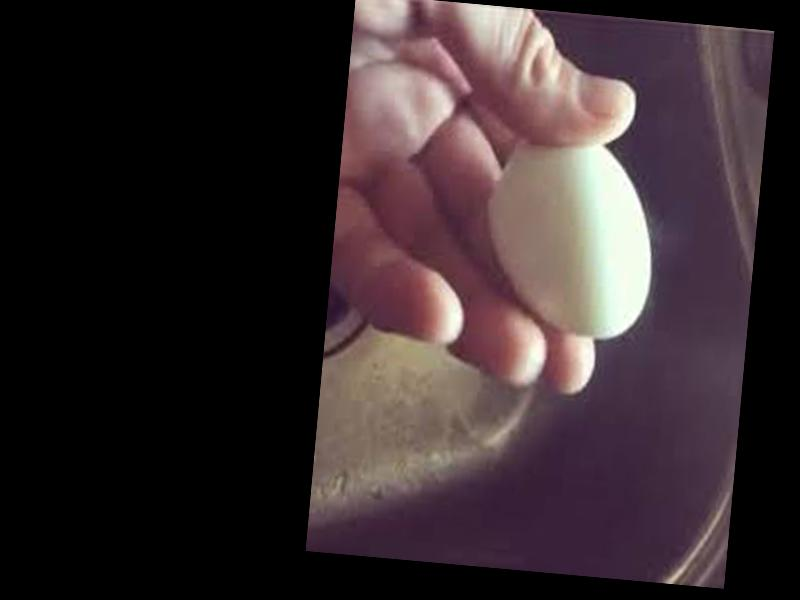Eggs: (480, 134, 662, 343)
